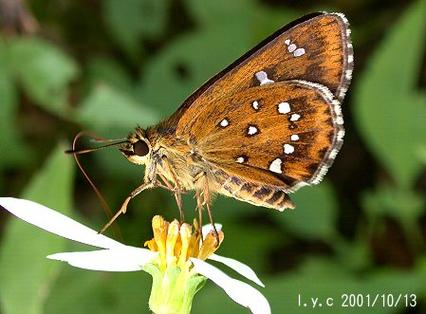Hesperiidae: (65, 7, 358, 233)
